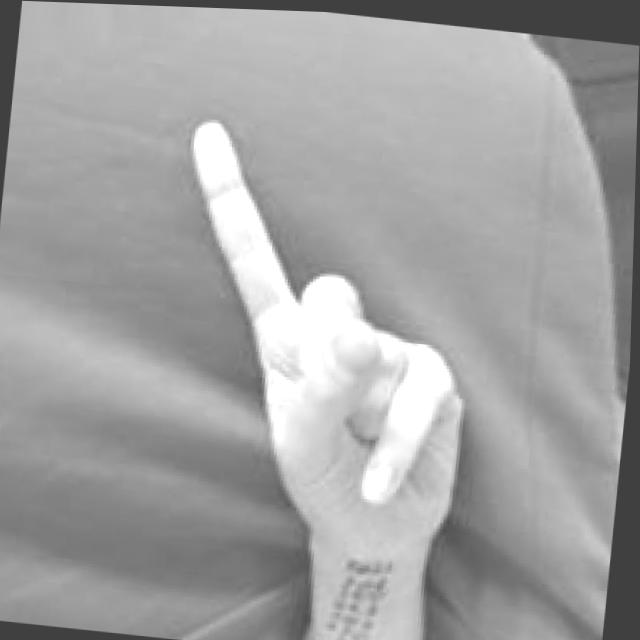I: (119, 104, 507, 640)
